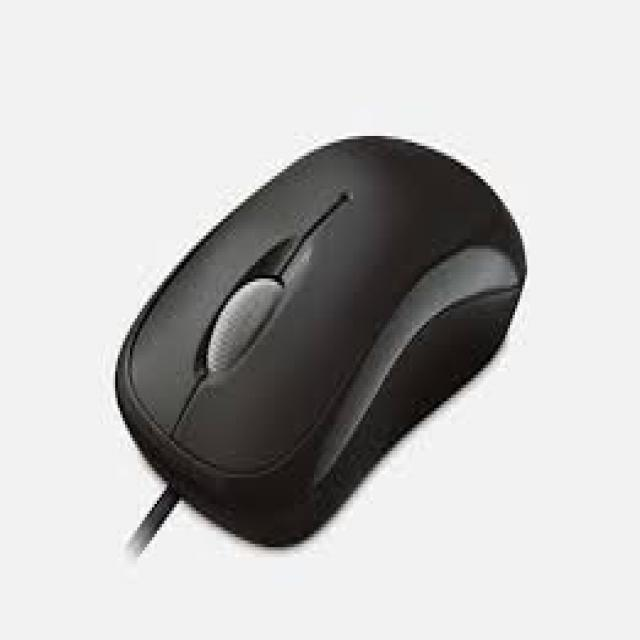others: (93, 112, 579, 540)
